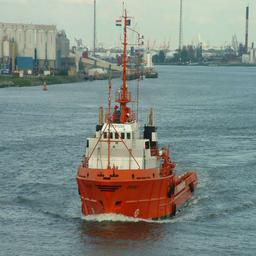Ship: (71, 98, 204, 228)
